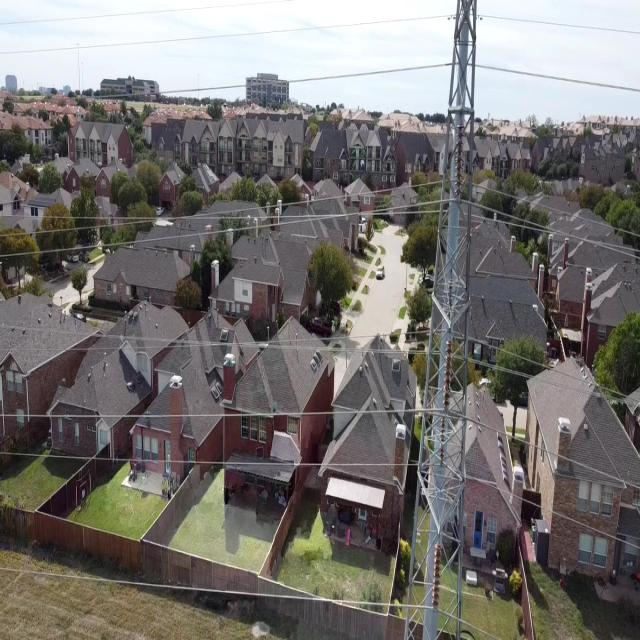杆塔: (400, 0, 480, 639)
正常绝缘子: (430, 533, 444, 614), (454, 112, 466, 201), (443, 334, 454, 412)
